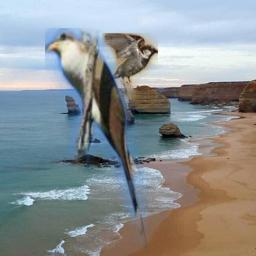Cuckoo: (45, 28, 148, 250)
Sparrow: (102, 33, 158, 100)
